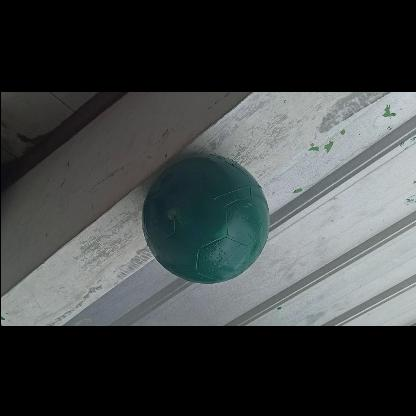green_ball: (144, 158, 270, 284)
